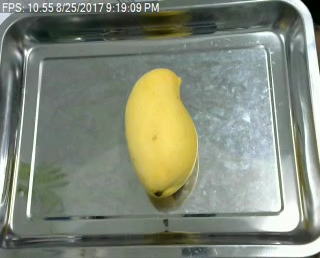Mango: (122, 67, 199, 190)
